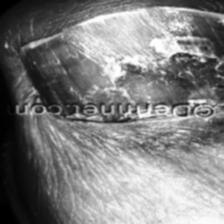Toxin: (18, 4, 224, 120)
